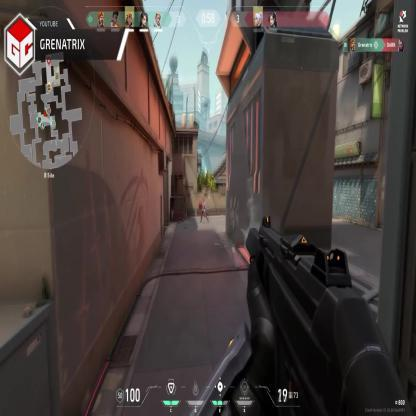enemy: (200, 198, 209, 223)
enemy_head: (202, 198, 204, 204)
